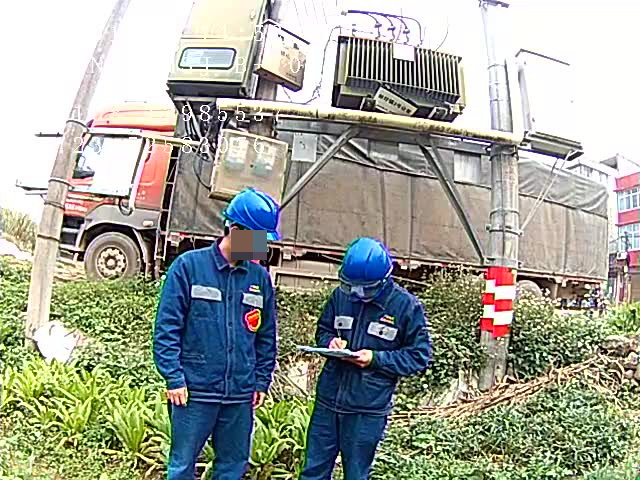downsuit: (162, 405, 257, 480), (297, 420, 392, 480)
halt: (223, 188, 280, 251), (343, 237, 392, 282)
hand: (163, 385, 186, 405), (351, 348, 374, 366), (328, 337, 348, 353), (252, 391, 265, 407)
inear: (226, 222, 250, 248)
person: (151, 187, 288, 480), (289, 235, 433, 480)
upsuit: (151, 244, 281, 395), (311, 279, 432, 411)
